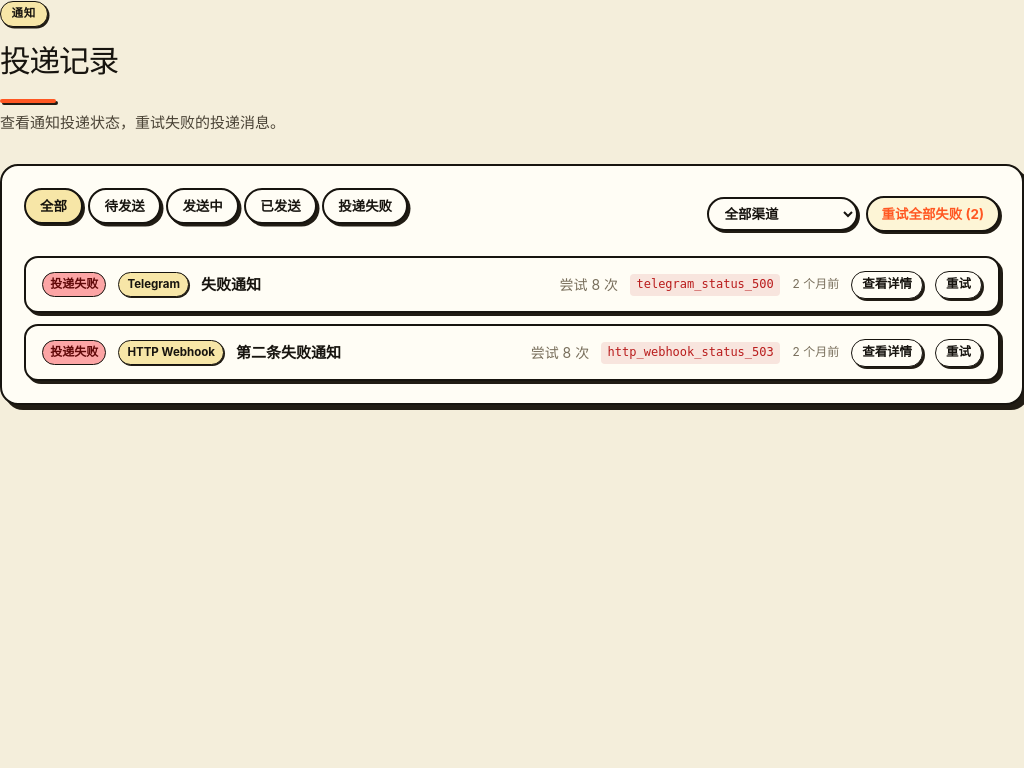
OutboxPage › 详情抽屉支持一键复制投递 ID
Click the button with aria-label "查看投递详情：失败通知".
click(887, 285)  # box [851,271,923,299]
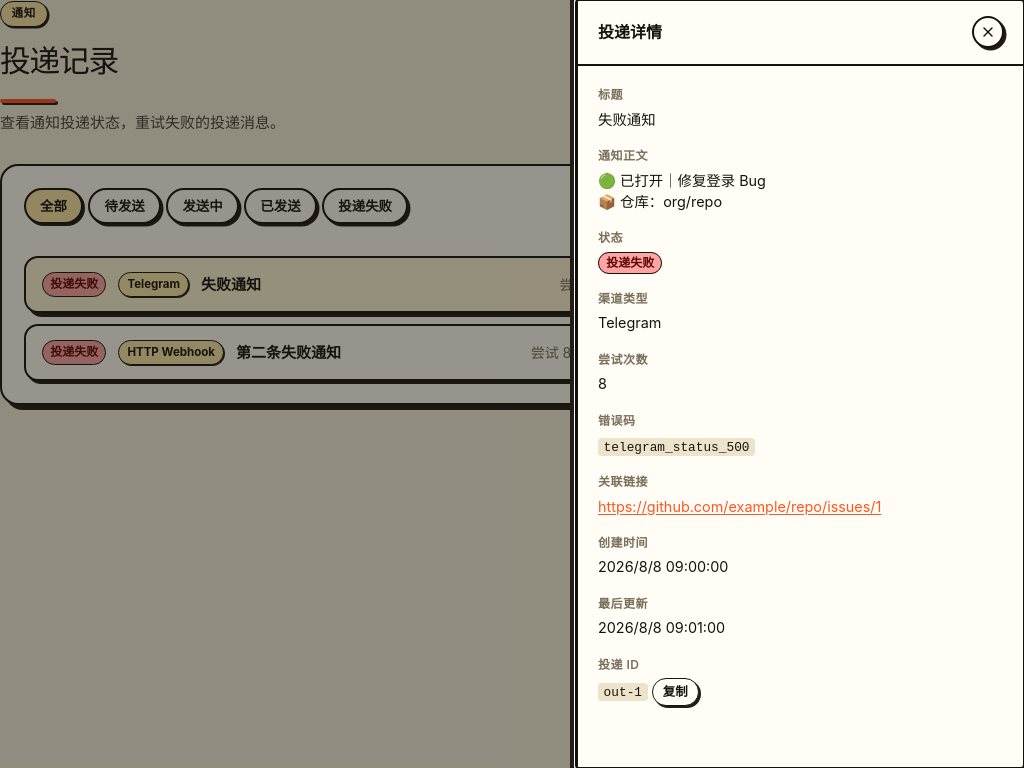
Click the button with aria-label "复制投递 ID".
click(675, 692)  # box [652,678,699,706]
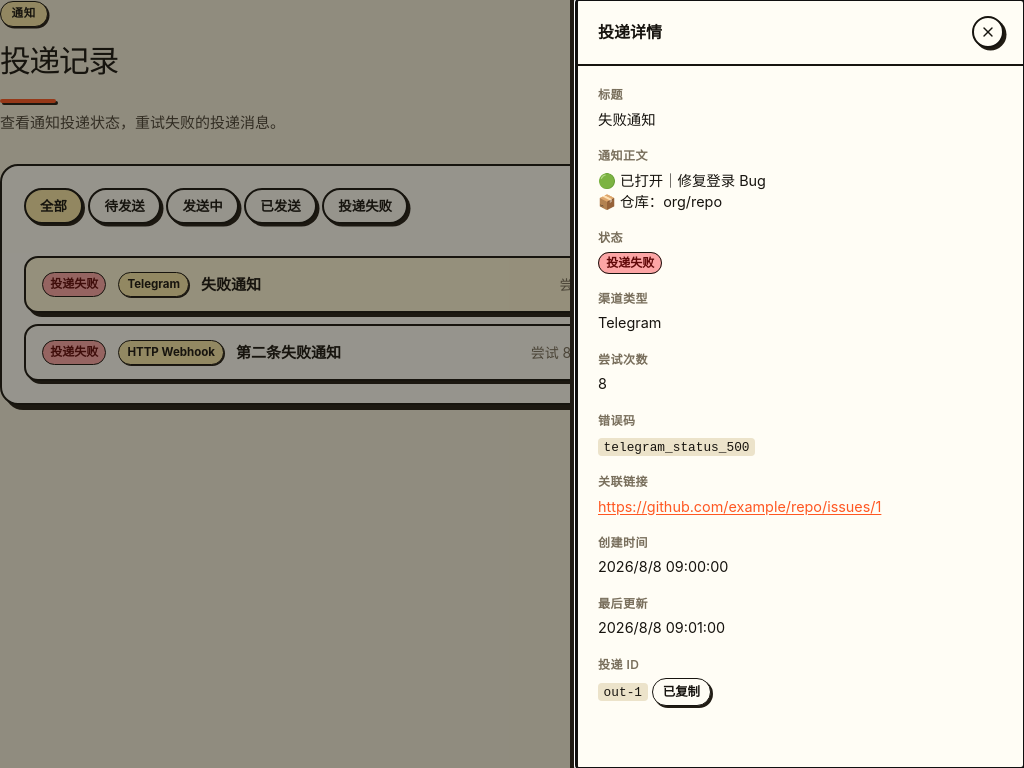
Expected: the button "已复制" is shown, [652,678,711,706]
